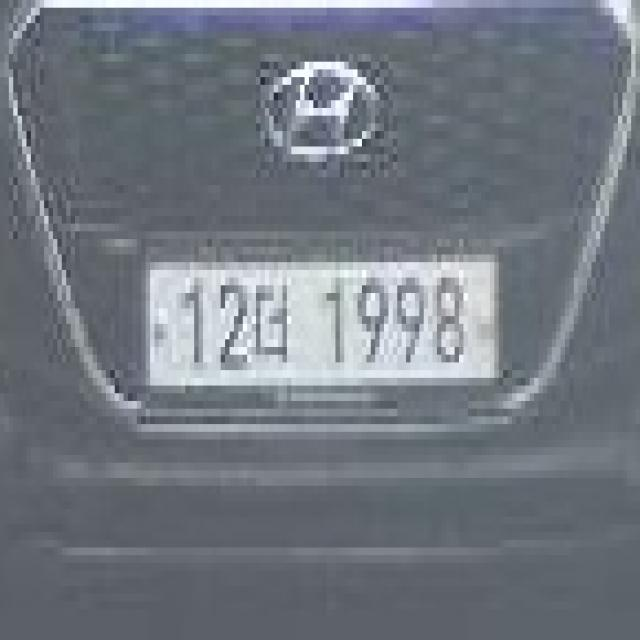1: (176, 278, 212, 378), (318, 270, 353, 370)
2: (212, 278, 251, 378)
8: (433, 262, 472, 378)
9: (393, 262, 432, 378), (353, 270, 393, 378)
deo: (252, 278, 296, 370)
license_plate: (141, 239, 508, 409)
